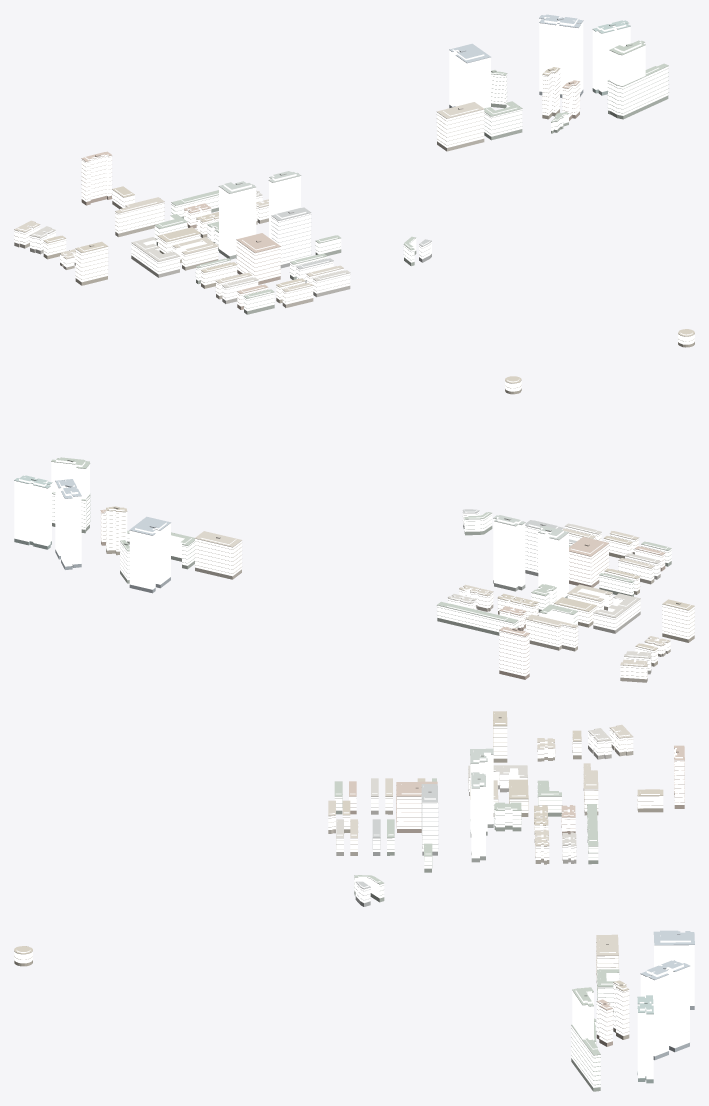
File: buildings-4_3-fine.glb
3 views of the same model, one above another, from view 1: azimuth 30°, elevation 25°; view 2: azimuth 150°, elevation 25°; view 3: azimuth 270°, elevation 25° (orthographic). The views are drawn at different scales.
Parts seen in each view (by area): view 1: block_4_3_residential, block_4_3_office, block_4_3_roof, block_4_3_concrete, block_4_3_darkglass; view 2: block_4_3_residential, block_4_3_office, block_4_3_roof, block_4_3_darkglass, block_4_3_concrete; view 3: block_4_3_residential, block_4_3_roof, block_4_3_office, block_4_3_darkglass, block_4_3_concrete.
Part boxes in pixels (bbox=[...]): block_4_3_residential: bbox=[14, 66, 694, 344]; block_4_3_office: bbox=[219, 17, 645, 256]; block_4_3_roof: bbox=[14, 14, 694, 338]; block_4_3_concrete: bbox=[14, 65, 694, 341]; block_4_3_darkglass: bbox=[14, 88, 694, 347]; block_4_3_residential: bbox=[52, 379, 694, 679]; block_4_3_office: bbox=[14, 460, 568, 600]; block_4_3_roof: bbox=[14, 376, 694, 676]; block_4_3_darkglass: bbox=[14, 388, 694, 682]; block_4_3_concrete: bbox=[52, 380, 694, 676]; block_4_3_residential: bbox=[14, 713, 684, 1087]; block_4_3_roof: bbox=[14, 711, 694, 1087]; block_4_3_office: bbox=[470, 748, 694, 1079]; block_4_3_darkglass: bbox=[14, 744, 694, 1091]; block_4_3_concrete: bbox=[14, 725, 684, 1085].
Size of the model in its own units: 665 by 74.7 by 548.
